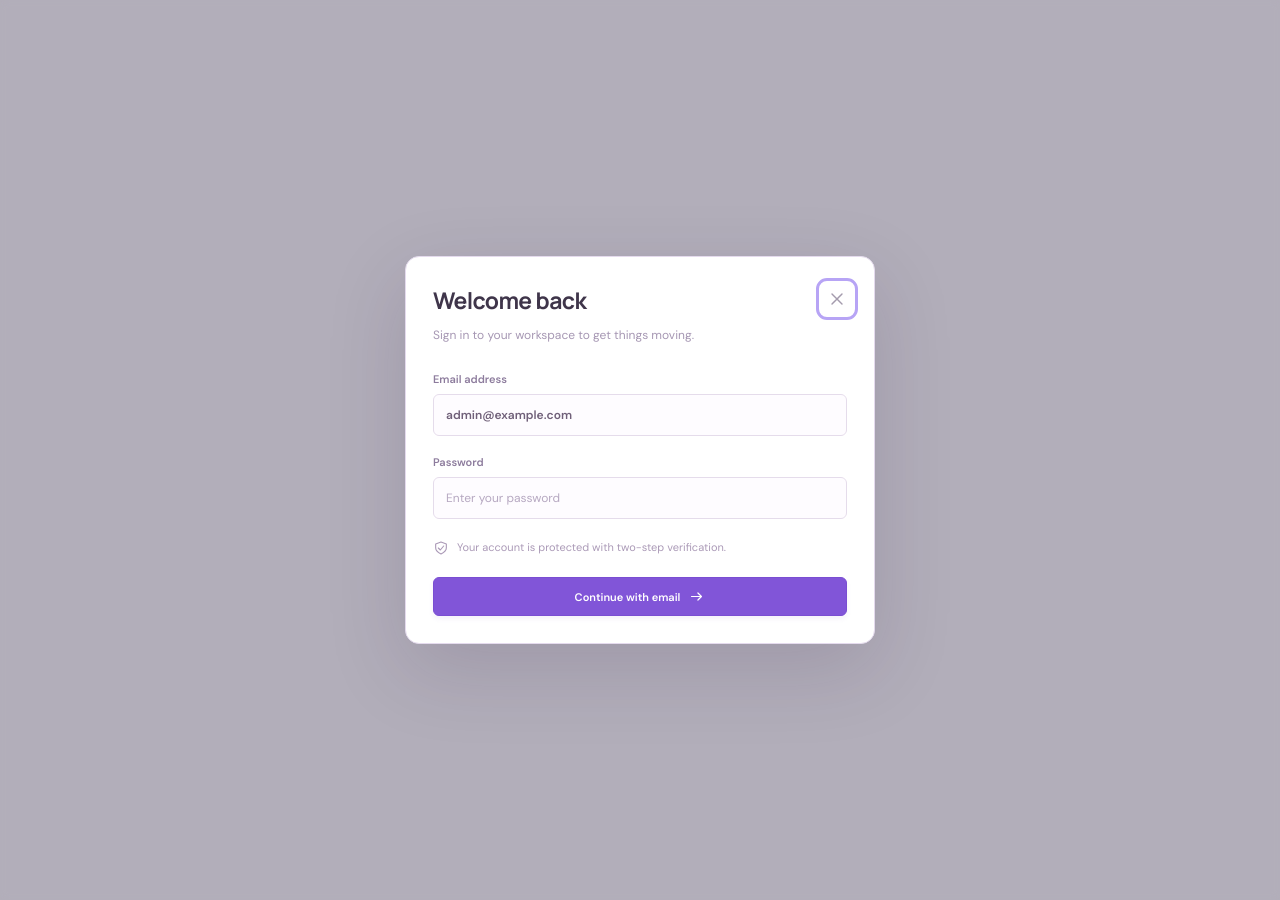
Test: two-factor login › shows verification errors and never authenticates a rejected code
In the password field labelled "Password": (640, 498) [433,477,847,519], type "Workspace123!"
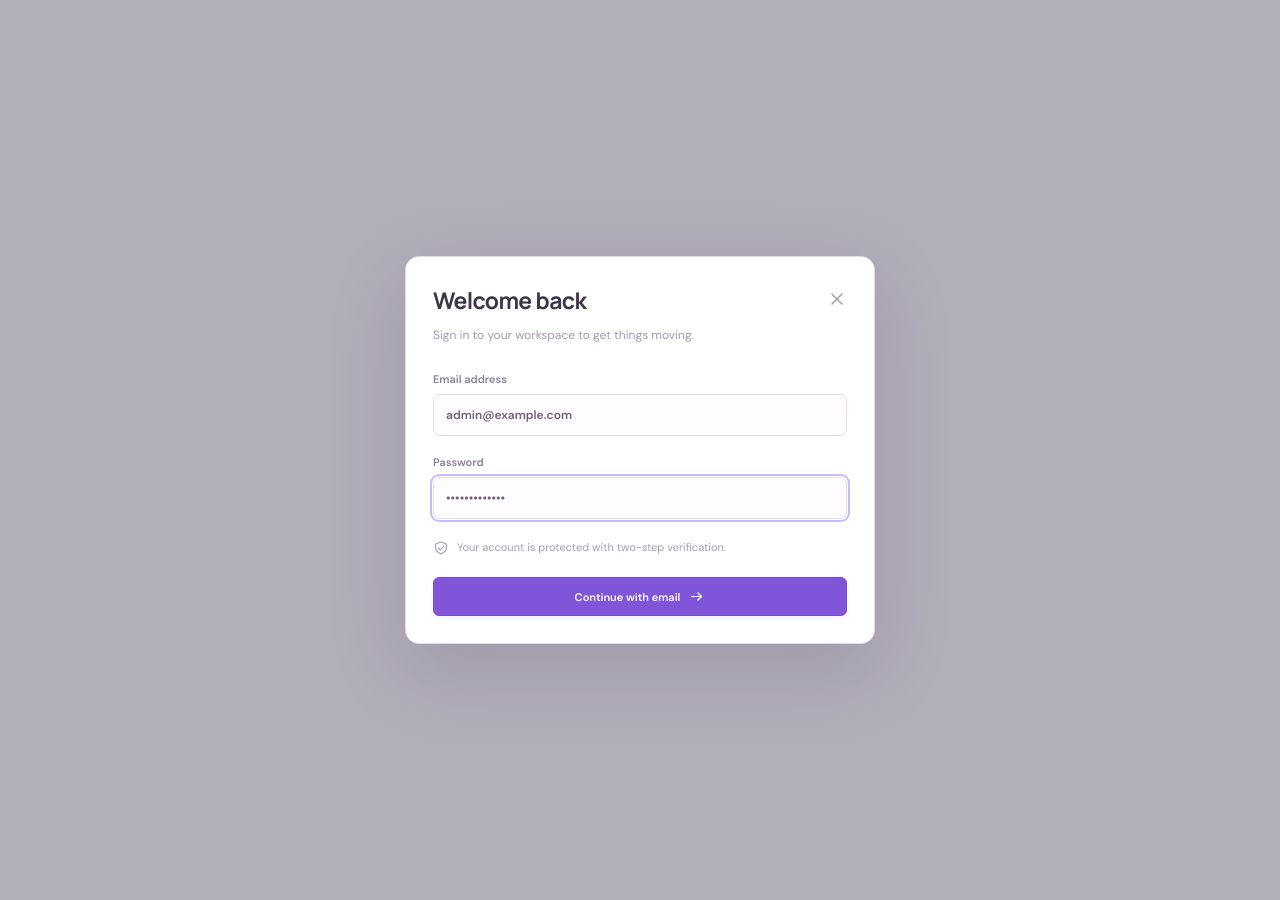
Click the button "Continue with email": (640, 597) [433,577,847,616]
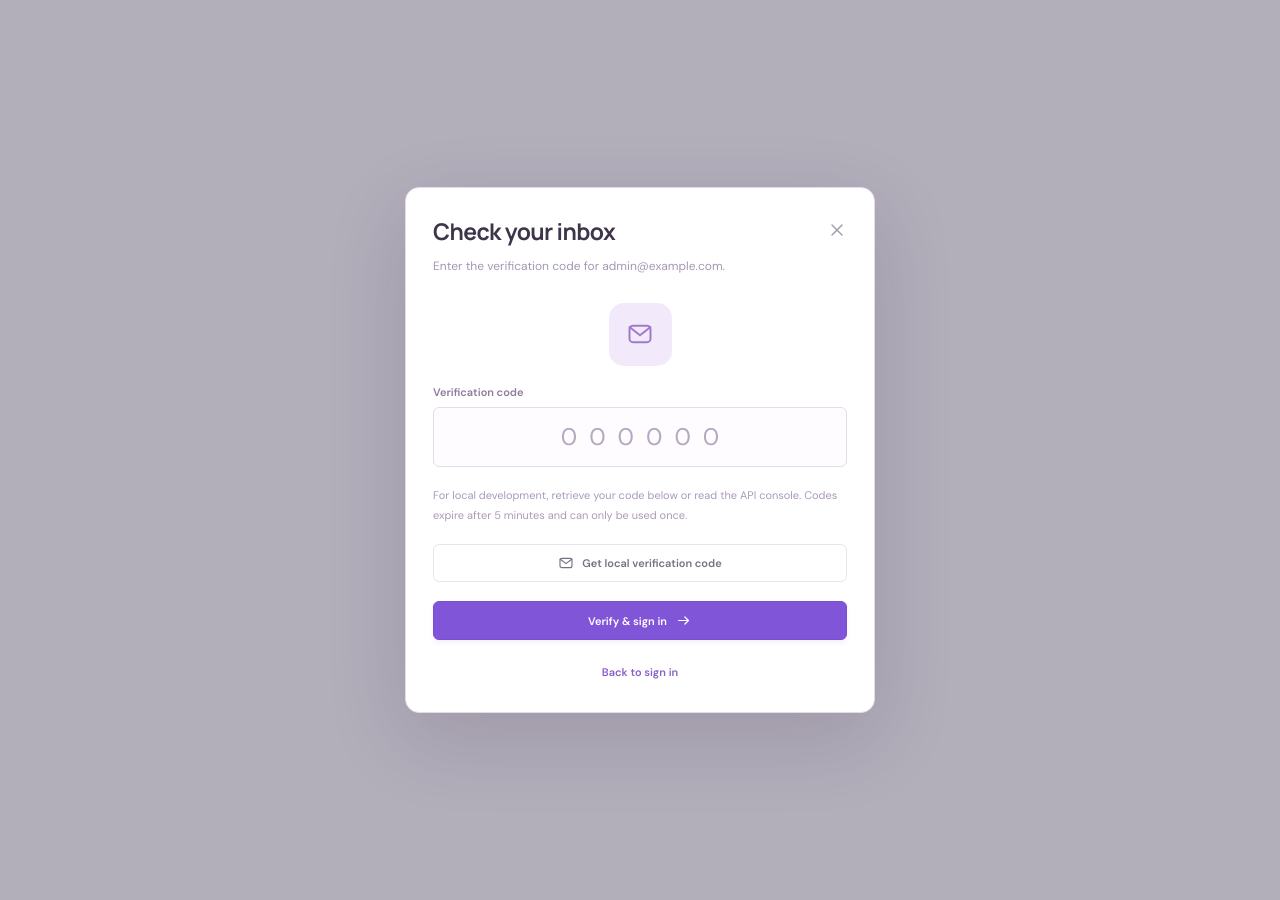
In the field labelled "Verification code": (640, 437) [433,407,847,467], type "999999"
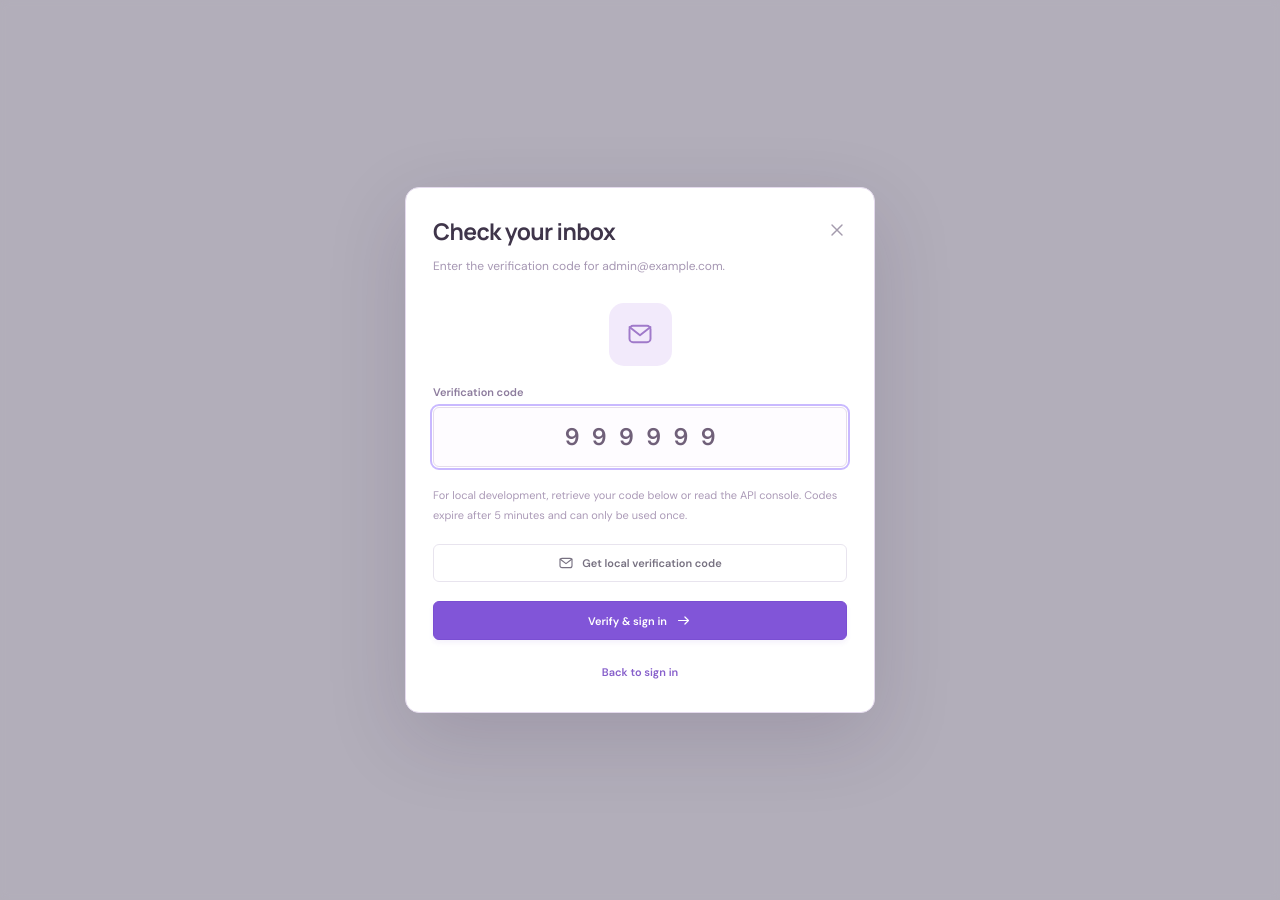
Click the button "Verify & sign in": (640, 621) [433,602,847,640]
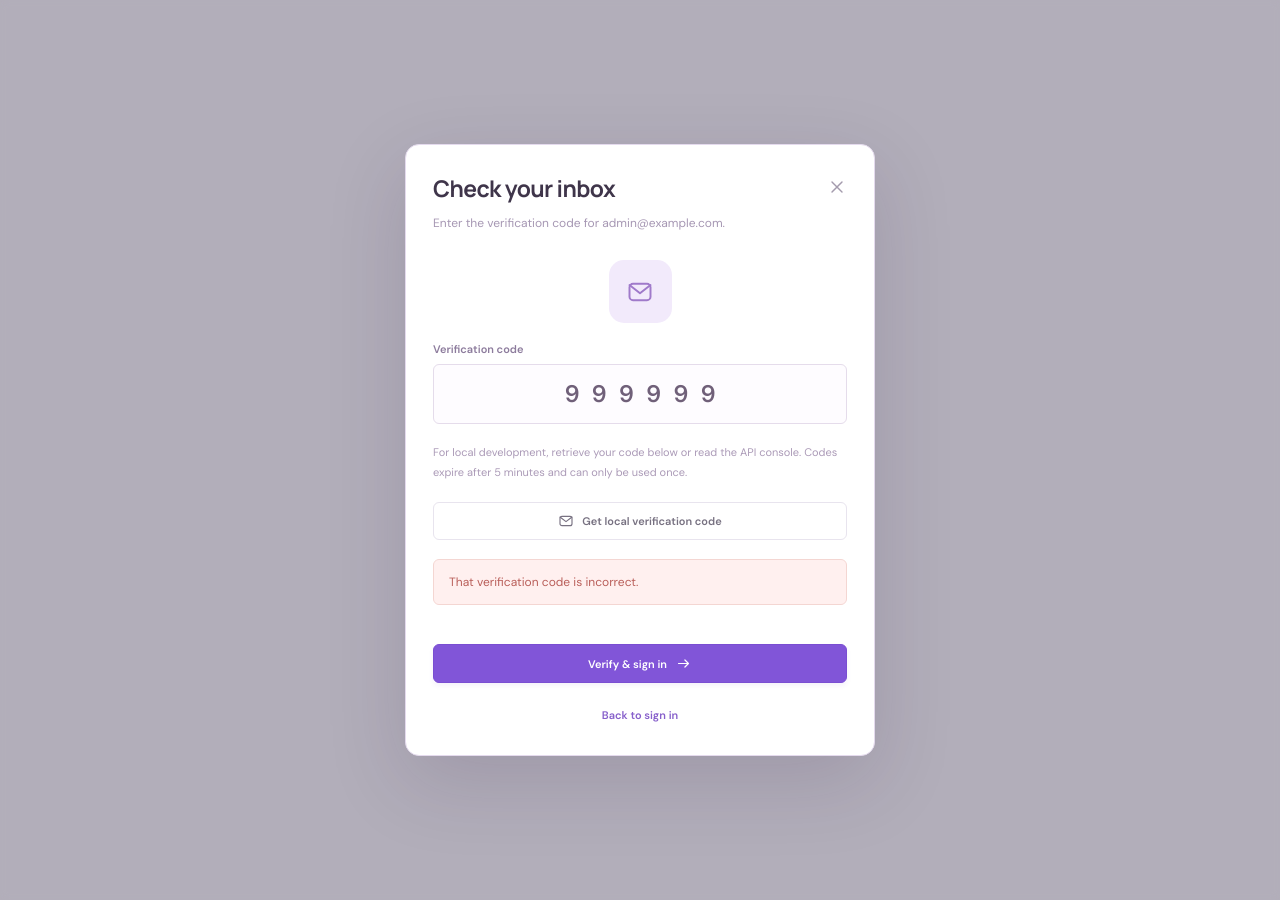
Check: the message reads "That verification code is incorrect.", box [449,574,638,590]
